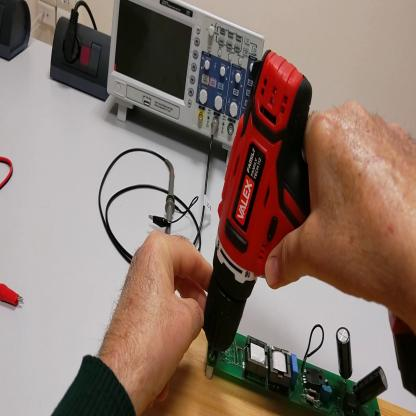electric screwdriver: (203, 49, 415, 396)
hand: (266, 100, 415, 320), (109, 227, 214, 397)
high voltage board: (207, 325, 390, 416)
oscilloscope: (109, 1, 264, 166)
oscilloscope probe tip: (164, 159, 177, 233)
socket: (48, 17, 112, 104), (1, 2, 34, 63)
working area: (144, 329, 415, 415)
